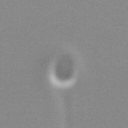normal: (49, 88, 84, 128)
